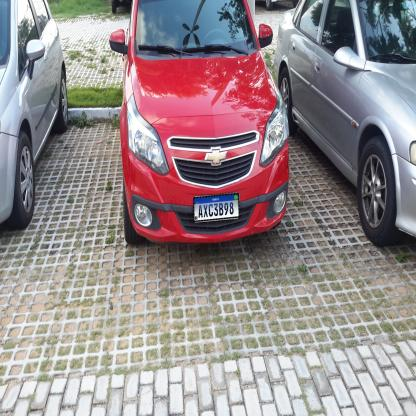PlacaM: (193, 193, 240, 222)
